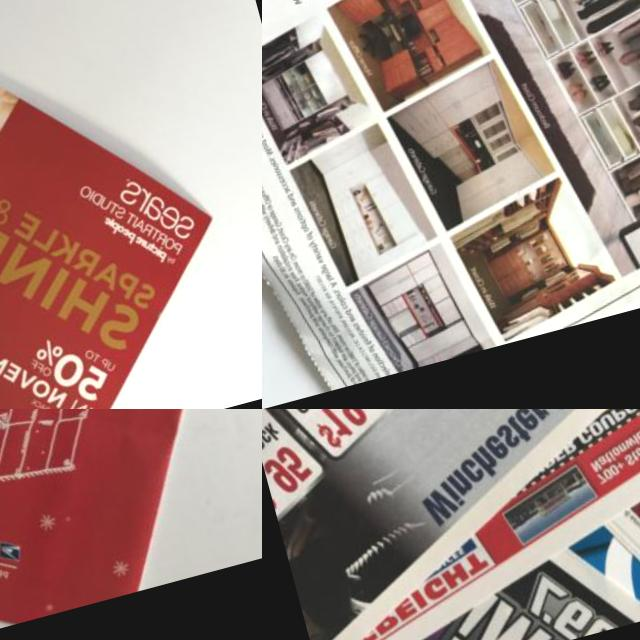papel: (262, 0, 640, 408), (0, 0, 258, 409), (262, 409, 640, 640), (0, 409, 262, 640)
